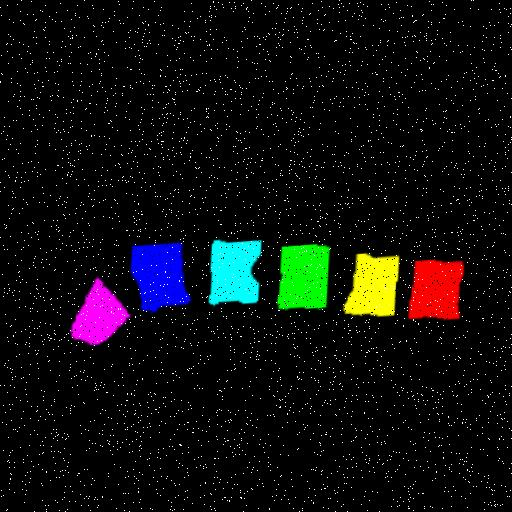L1: (410, 269, 464, 329)
L2: (347, 261, 400, 324)
L3: (280, 252, 331, 316)
L4: (212, 245, 261, 309)
L5: (132, 247, 191, 314)
S1: (73, 281, 131, 347)
